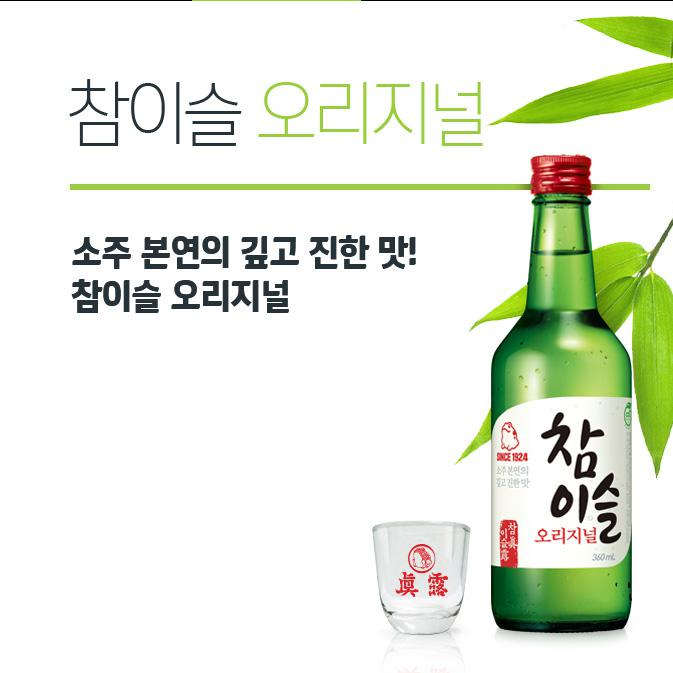soju: (486, 151, 637, 638)
